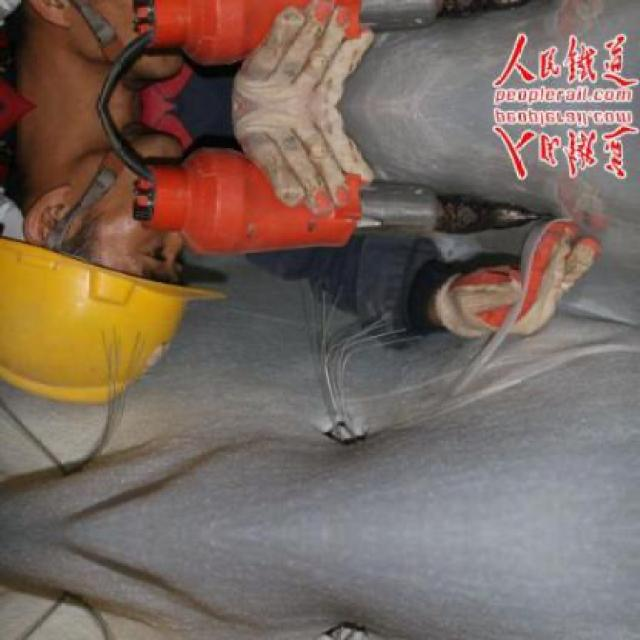con casco: (0, 183, 170, 387)
